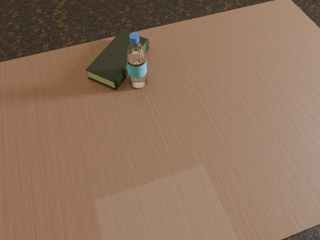book: (86, 30, 149, 90)
bottle: (126, 33, 147, 88)
